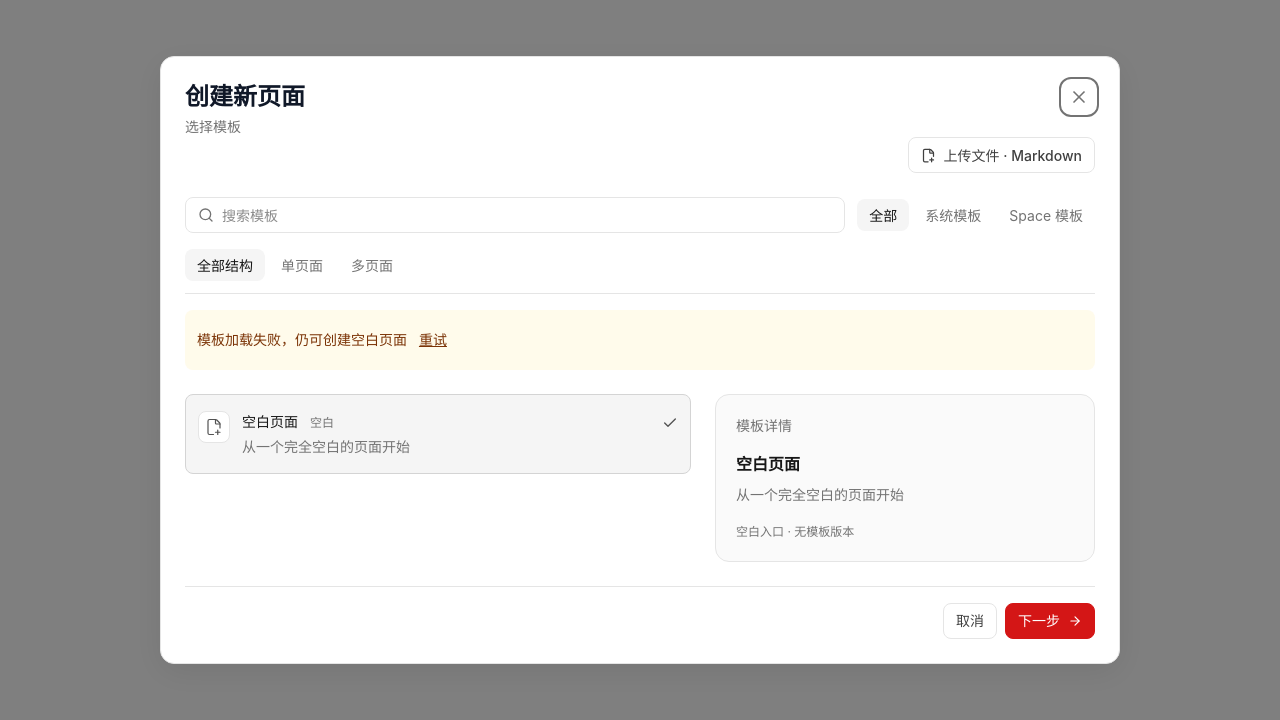
Test: NewPageDialog › defaults to blank, keeps blank available when the catalog fails, and retries
Check: the message shows "模板加载失败", box [197,331,407,348]
Click the button "重试" at (433, 340), box [411,322,455,358]
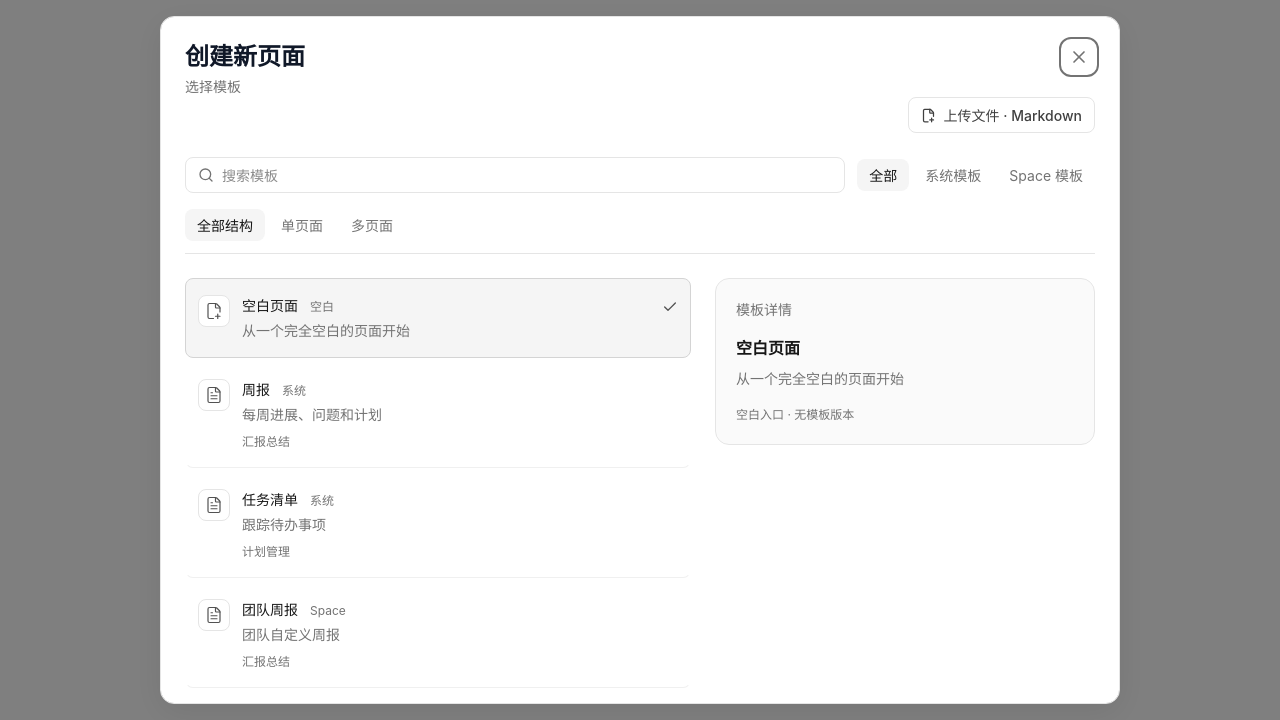
Check: the button "任务清单 系统 跟踪待办事项 计划管理" is shown, box [185,472,691,578]
